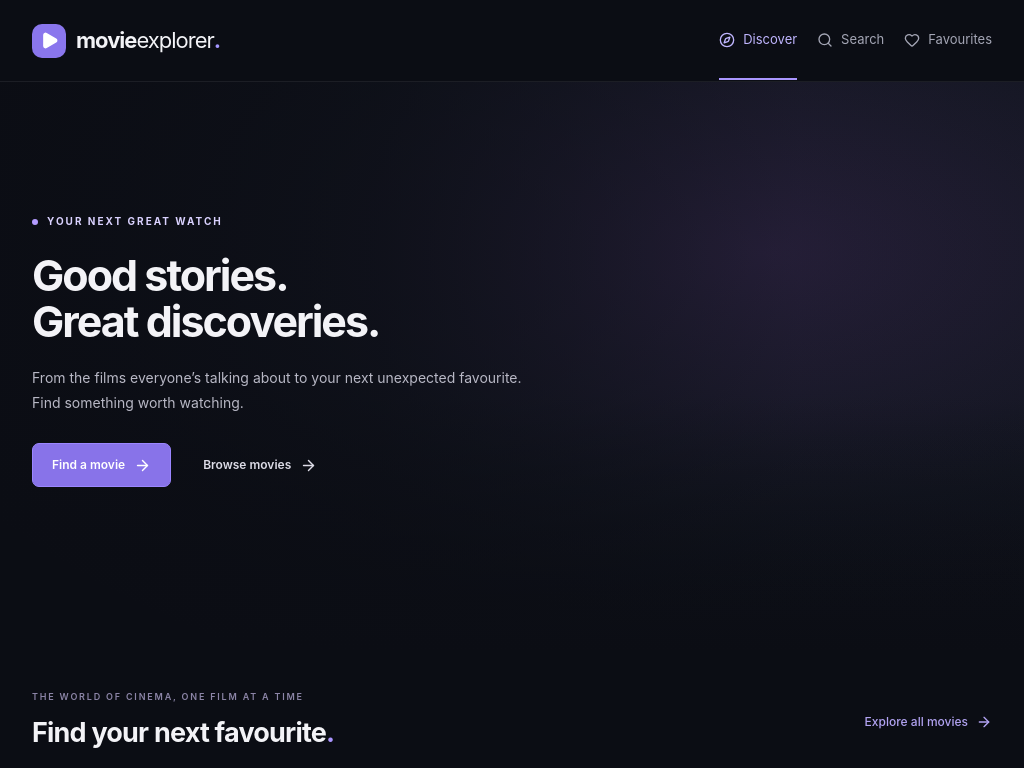
Test case: application routing › opens the search route through navigation
What coordinates should you click on to do the following:
click the link "Search"
I would click on:
 (851, 39)
Its box is [817,31,884,48].
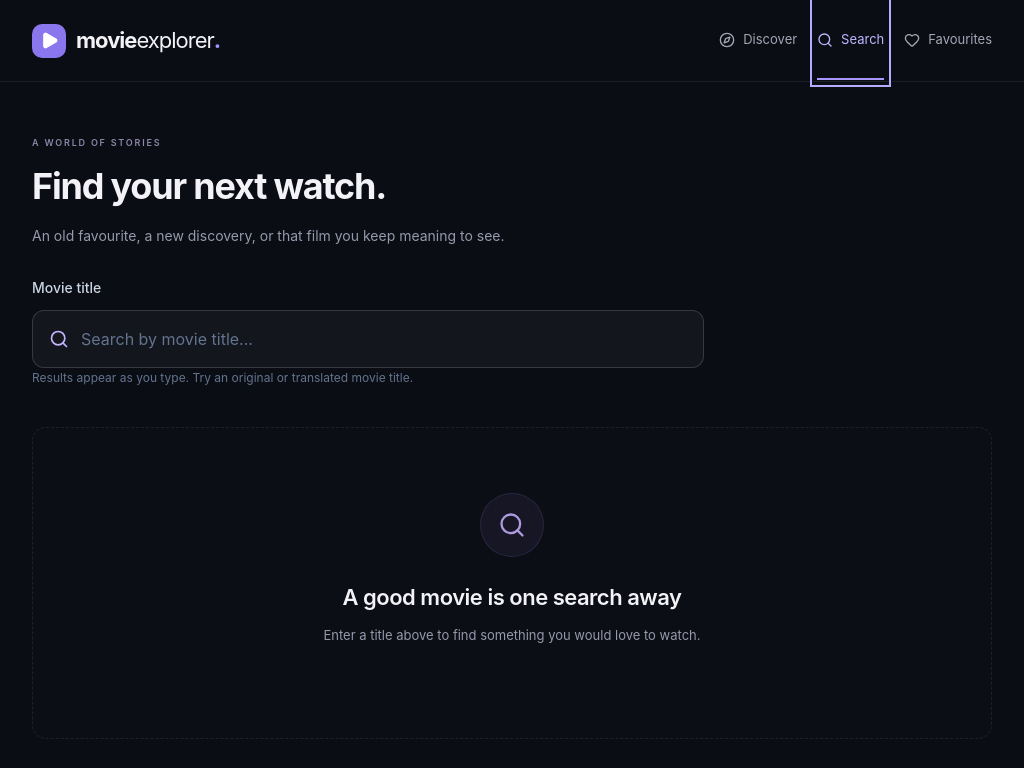
Now the search field labelled "Movie title" is shown, box [81,311,687,367]
